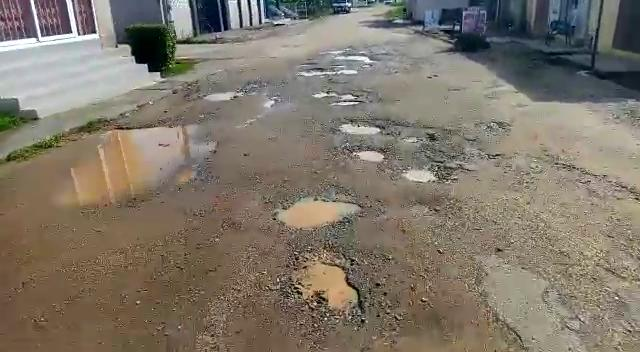pothole: (0, 122, 218, 212), (278, 249, 371, 319), (275, 191, 362, 230), (313, 89, 364, 107), (337, 118, 385, 136), (343, 145, 390, 163), (400, 164, 437, 183), (297, 66, 353, 76)
